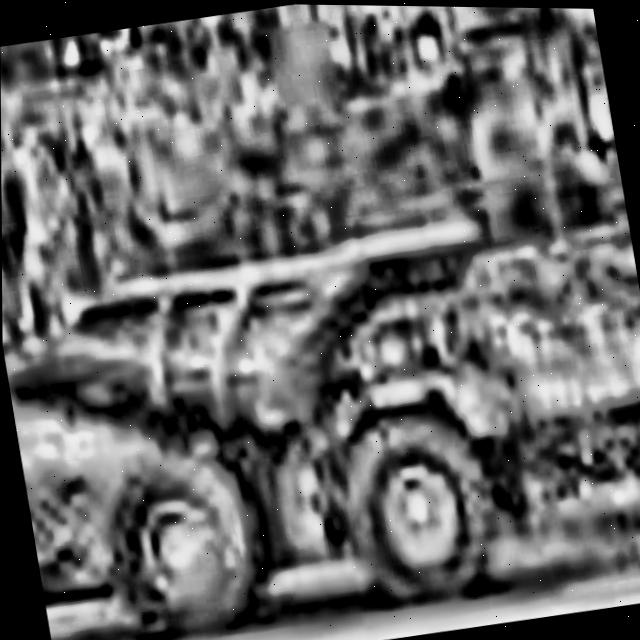dump_truck: (1, 160, 585, 640)
